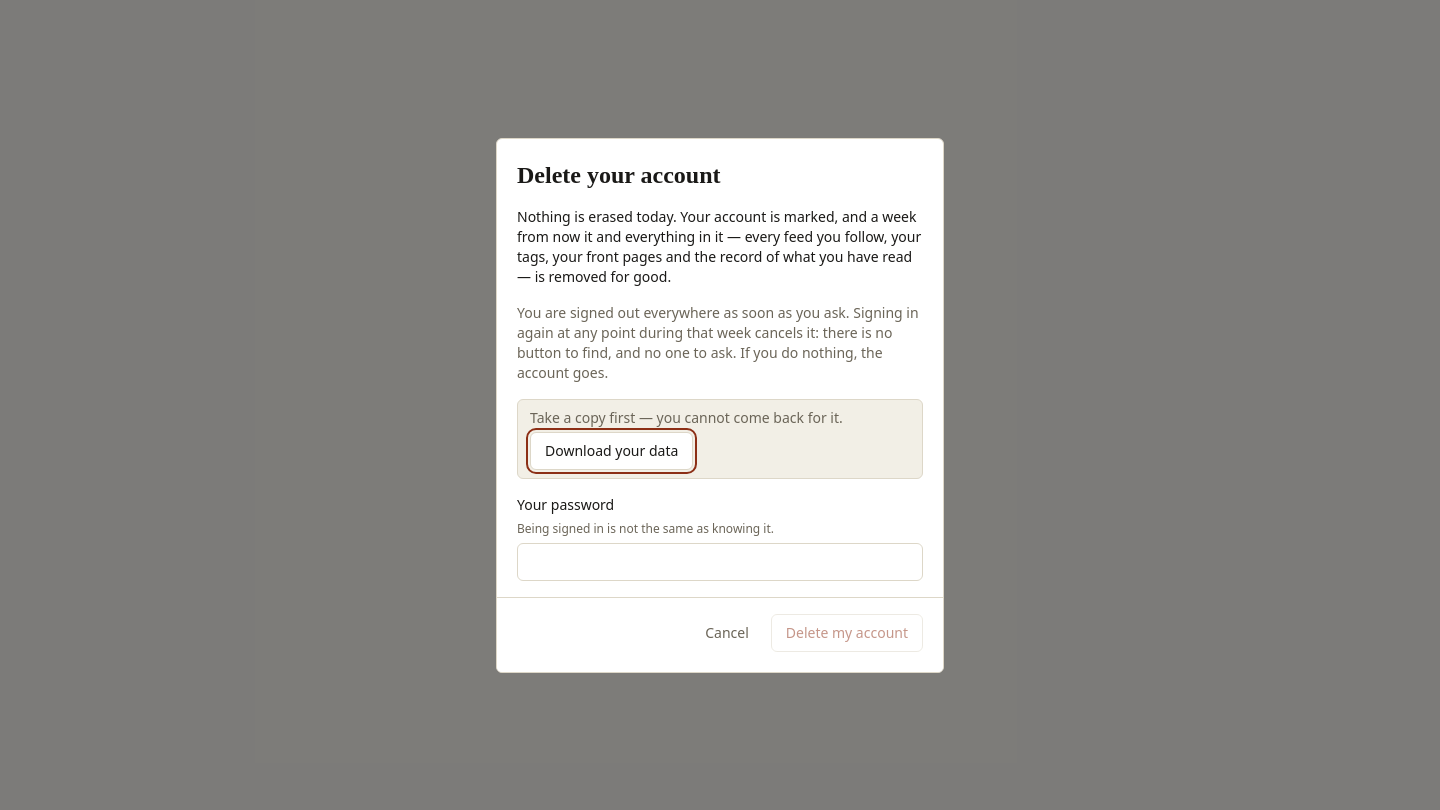
Test: DeleteAccountDialog › says plainly when nothing could be sent
Step 1. Type "hunter2" into the password field labelled "Your password" → (720, 562), box [517,542,923,580]
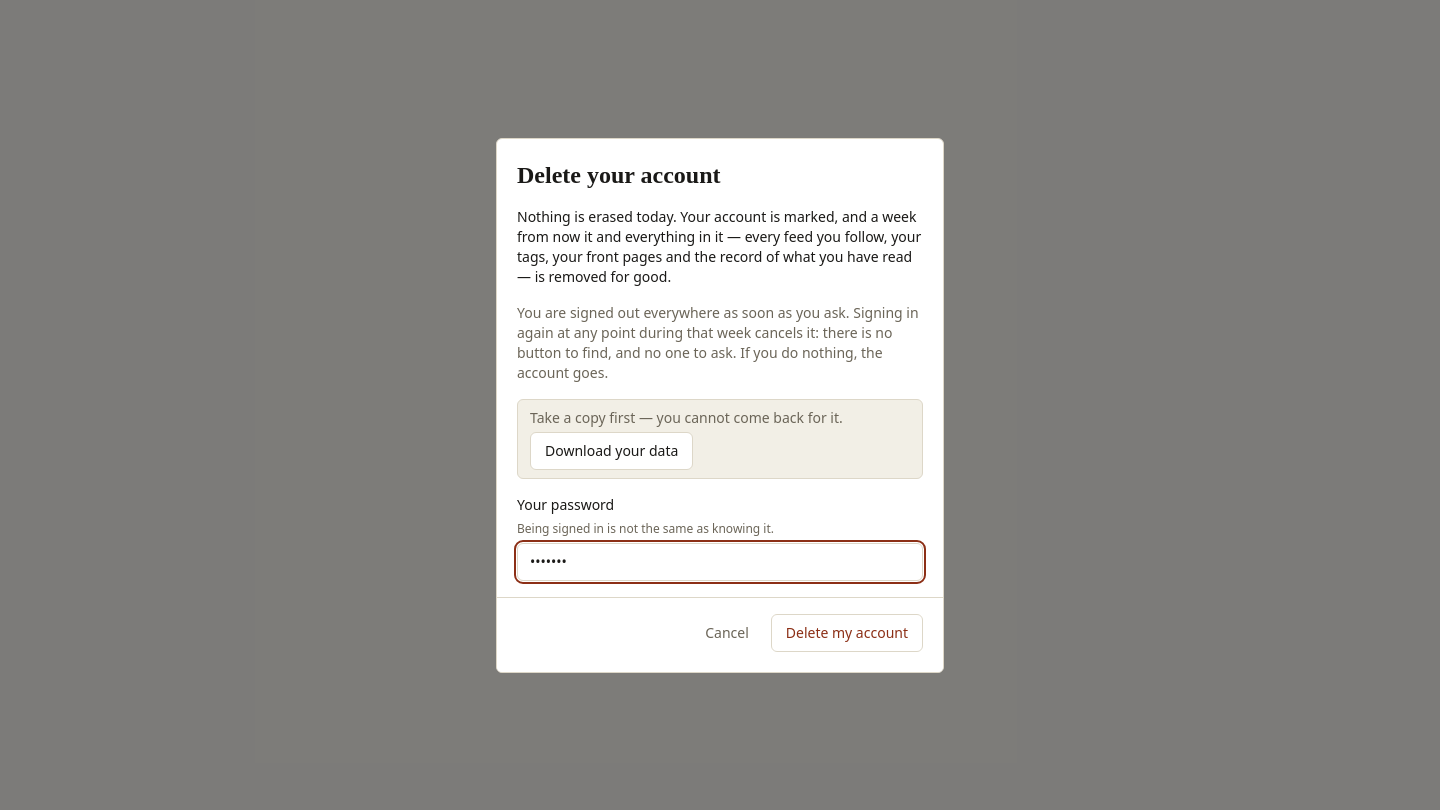
Step 2. Click the button "Delete my account" → click(847, 632), box [771,614,923,652]
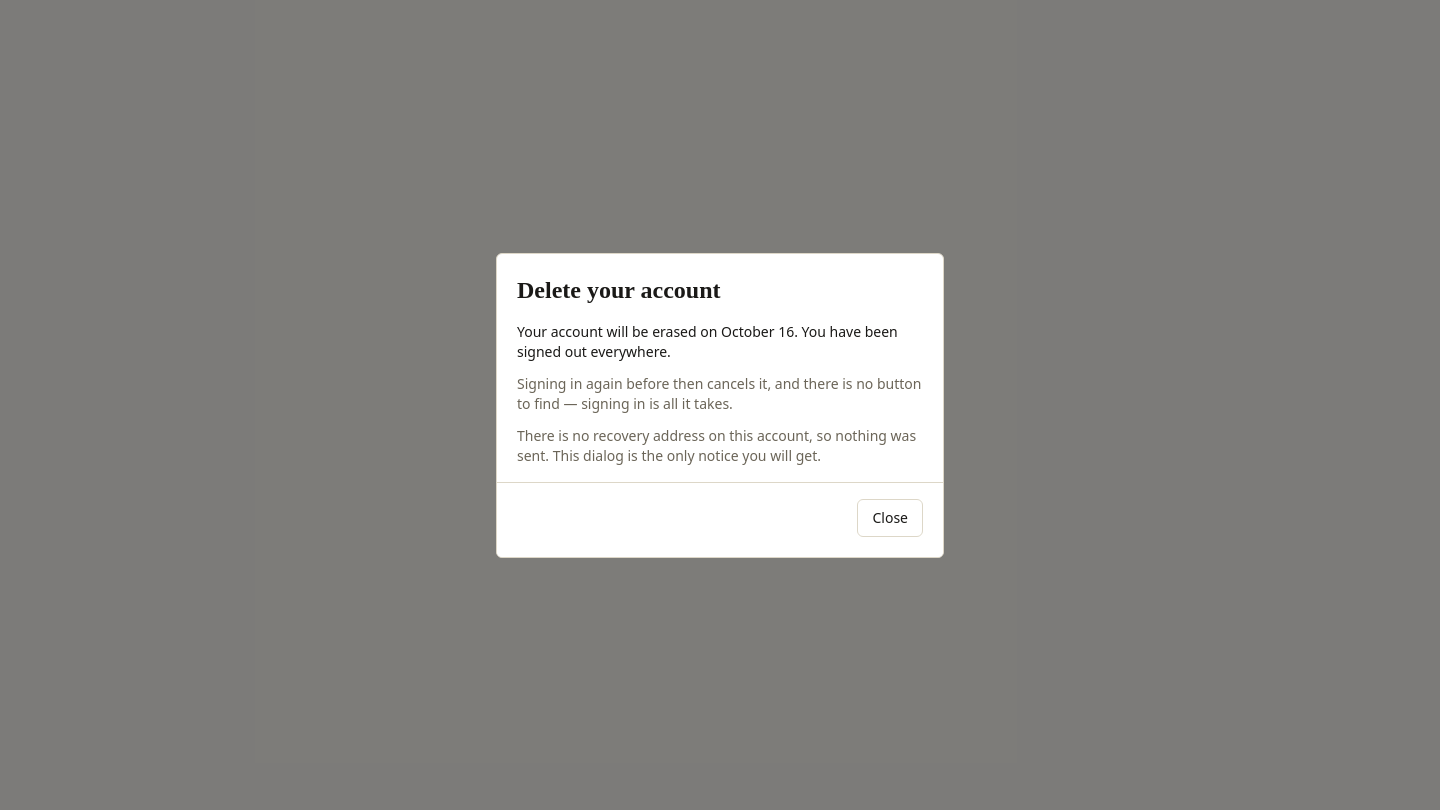
Check: the text "no recovery address on this account" is shown, box [517,426,916,464]
